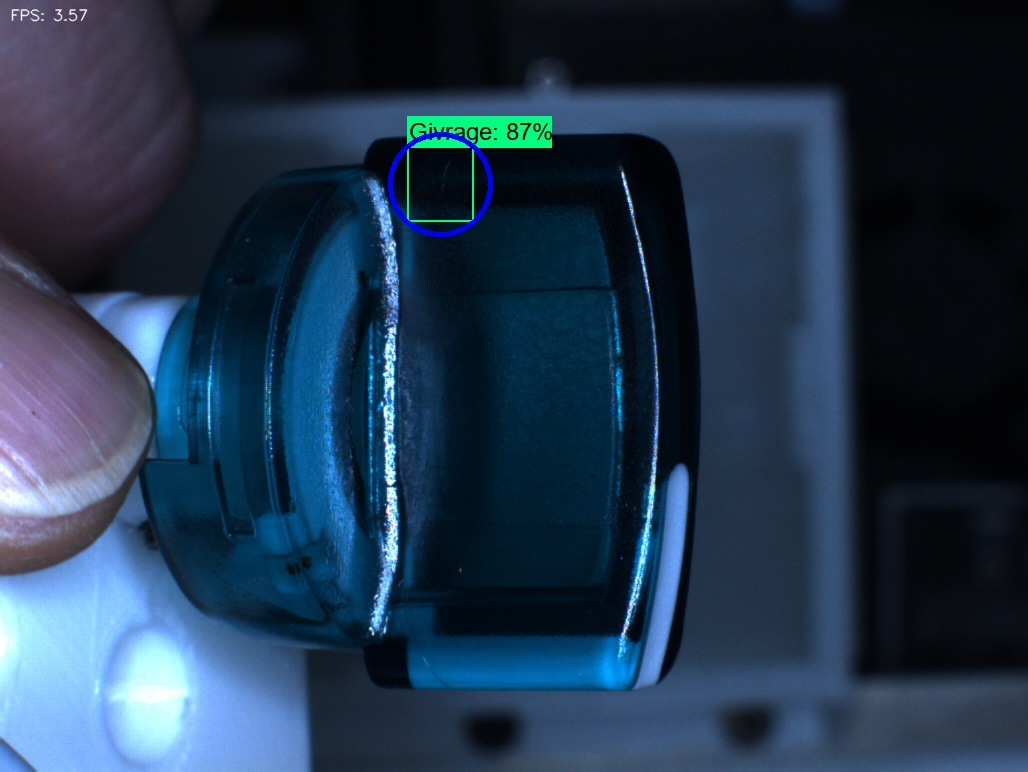PointNoir: (324, 245, 398, 324)
